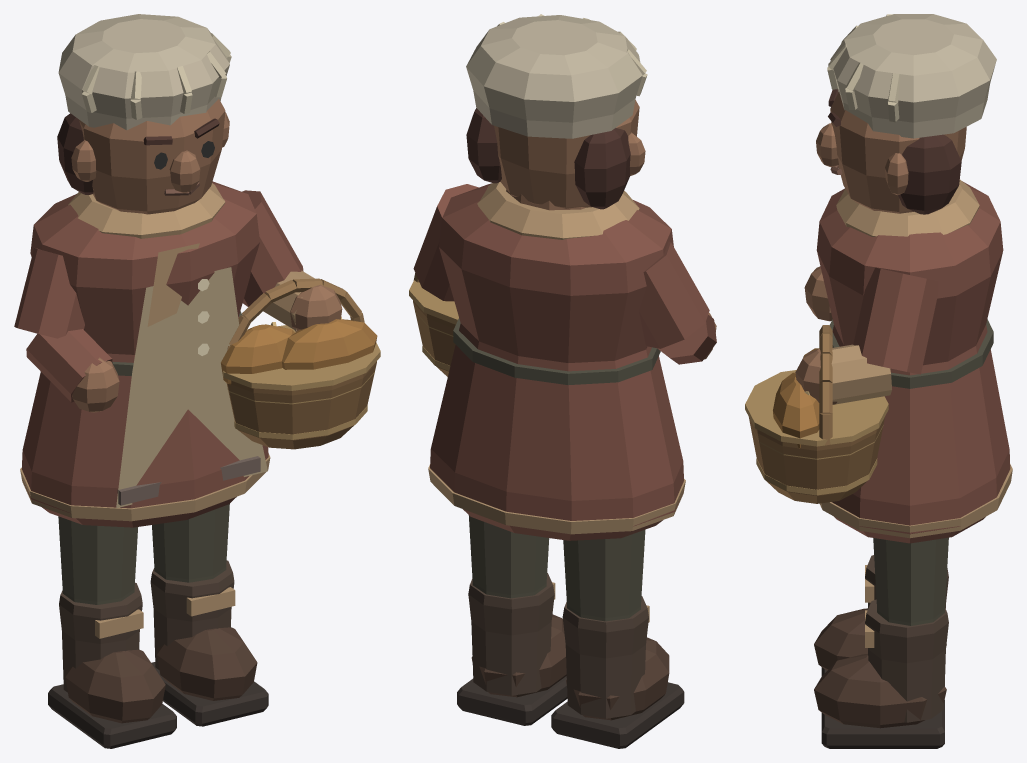
The model's file is bread_carrier.glb.
3 renders of one model, left to right at view 1: azimuth 30°, elevation 25°; view 2: azimuth 150°, elevation 25°; view 3: azimuth 270°, elevation 25°, orthographic. The views are drawn at different scales.
Visible parts, largest first — view 1: Coat and head, Shoulder.R, Hip.L, Hip.R; view 2: Coat and head, Hip.L, Hip.R, Shoulder.R; view 3: Coat and head, Shoulder.R, Hip.R, Hip.L.
Boxes of the visible parts, x1,y1,x2,y2 form: Coat and head: (14, 14, 270, 527); Shoulder.R: (221, 190, 380, 449); Hip.L: (48, 516, 176, 748); Hip.R: (150, 504, 268, 726); Coat and head: (428, 14, 716, 540); Hip.L: (551, 530, 684, 748); Hip.R: (457, 515, 567, 725); Shoulder.R: (409, 184, 478, 376); Coat and head: (804, 14, 1012, 543); Shoulder.R: (745, 267, 938, 503); Hip.R: (814, 537, 948, 748); Hip.L: (814, 555, 948, 685).
Bounding box in the file's own units: 0.7279 × 1.45 × 0.5231.
